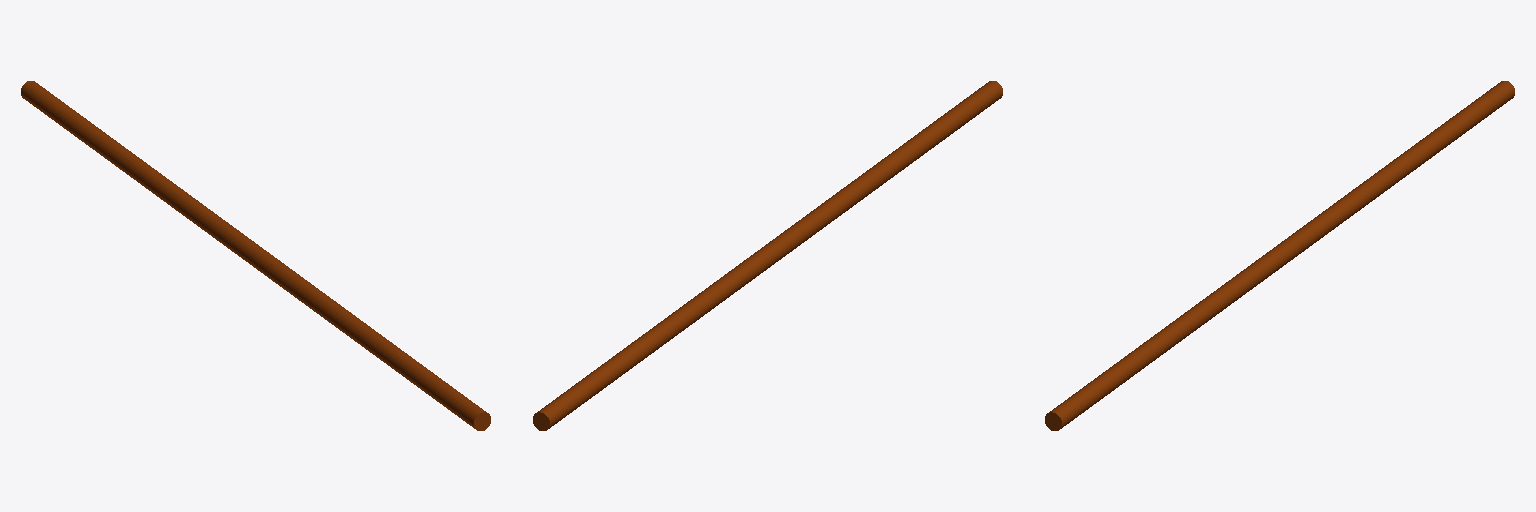
URDF robot description (cylinder):
<?xml version="1.0" ?>
<!-- =================================================================================== -->
<!-- |    This document was autogenerated by xacro from cylinder.xacro                 | -->
<!-- |    EDITING THIS FILE BY HAND IS NOT RECOMMENDED                                 | -->
<!-- =================================================================================== -->
<robot name="cylinder">
  <link name="world"/>
  <link name="base">
    <visual>
      <origin rpy="1.57079633 0 0" xyz="0 0 0"/>
      <geometry>
        <cylinder length="7.07106781185" radius="0.08"/>
      </geometry>
      <material name="cylinder_material">
        <color rgba="0.545 0.271 0.075 1.0"/>
        <texture filename="../textures/tree_bark.jpg"/>
      </material>
    </visual>
    <collision>
      <origin rpy="1.57079633 0 0" xyz="0 0 0"/>
      <geometry>
        <cylinder length="7.07106781185" radius="0.08"/>
      </geometry>
    </collision>
    <inertial>
      <origin rpy="0 0 0" xyz="0 0 0"/>
      <mass value="1"/>
      <inertia ixx="4.168266666648428" ixy="0.0" ixz="0.0" iyy="4.168266666648428" iyz="0.0" izz="24.999999999890573"/>
    </inertial>
  </link>
  <joint name="base_joint" type="fixed">
    <parent link="world"/>
    <child link="base"/>
    <origin rpy="0 0 0" xyz="0.0 0.0 0.0"/>
  </joint>
</robot>

--- What the picture shows (computed from the rendered views, not written in the file) ---
Views: 3 orthographic renders of the robot side by side, from view 1: azimuth 30°, elevation 25°; view 2: azimuth 150°, elevation 25°; view 3: azimuth 330°, elevation 25°.
Robot: cylinder — 2 links, 1 joints (1 fixed); root link world; default pose: all joints at 0.
Links seen in each view (by area): view 1: base; view 2: base; view 3: base.
Boxes of the visible links, left/top/right/bottom form: base: left=21, top=81, right=490, bottom=430; base: left=533, top=81, right=1002, bottom=430; base: left=1045, top=81, right=1514, bottom=430.
Bounding box of the posed robot: 0.16 × 7.07 × 0.16 m (x, y, z).
Geometry: primitives only (box / cylinder / sphere), no mesh files.
